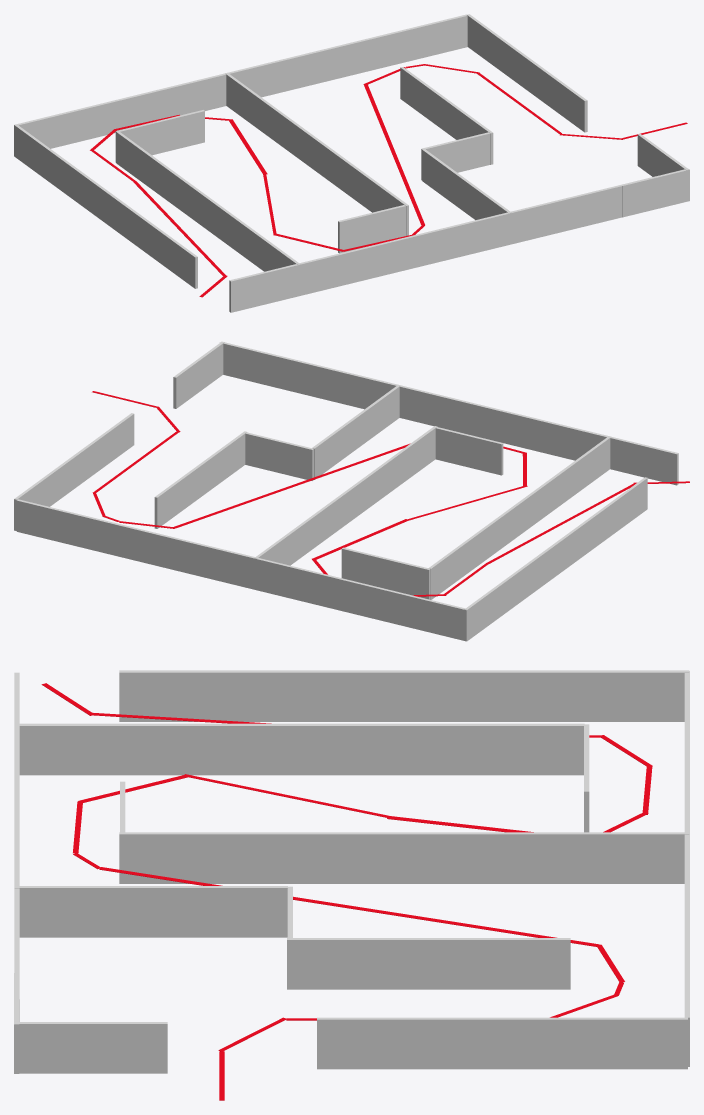
File: map3.dae
3 renders of one model, top to bottom at view 1: azimuth 30°, elevation 25°; view 2: azimuth 150°, elevation 25°; view 3: azimuth 270°, elevation 25°, orthographic. The views are drawn at different scales.
Visible parts, largest first — view 1: Cube.005, Cube.006, Cube.003, Cube.001, Cube.002, Cube.012, Cube.009, Cube.008, Cube.026, Cube.004, Cube.011, Cube.015 (+1 smaller); view 2: Cube.005, Cube.006, Cube.003, Cube.001, Cube.002, Cube.012, Cube.009, Cube.008, Cube.004, Cube.011, Cube.015, Cube.026 (+2 smaller); view 3: Cube.003, Cube.002, Cube.001, Cube.012, Cube.009, Cube.008, Cube.015, Cube.005, Cube.006, Cube.021, Cube.018.
Part boxes in pixels (x1=…): Cube.005: x1=17, y1=14, x2=467, y2=148; Cube.006: x1=229, y1=176, x2=656, y2=312; Cube.003: x1=115, y1=110, x2=300, y2=271; Cube.001: x1=14, y1=124, x2=197, y2=288; Cube.002: x1=225, y1=72, x2=408, y2=235; Cube.012: x1=467, y1=14, x2=587, y2=132; Cube.009: x1=400, y1=67, x2=493, y2=164; Cube.008: x1=422, y1=149, x2=511, y2=220; Cube.026: x1=622, y1=169, x2=689, y2=217; Cube.004: x1=338, y1=205, x2=405, y2=253; Cube.011: x1=421, y1=132, x2=490, y2=180; Cube.015: x1=637, y1=134, x2=688, y2=176; Cube.005: x1=16, y1=499, x2=466, y2=641; Cube.006: x1=252, y1=349, x2=678, y2=485; Cube.003: x1=341, y1=436, x2=611, y2=599; Cube.001: x1=464, y1=477, x2=647, y2=641; Cube.002: x1=254, y1=426, x2=437, y2=565; Cube.012: x1=14, y1=413, x2=134, y2=530; Cube.009: x1=154, y1=431, x2=246, y2=528; Cube.008: x1=312, y1=384, x2=400, y2=479; Cube.004: x1=435, y1=427, x2=503, y2=475; Cube.011: x1=245, y1=432, x2=313, y2=480; Cube.015: x1=173, y1=341, x2=224, y2=408; Cube.026: x1=220, y1=341, x2=253, y2=381; Cube.003: x1=14, y1=723, x2=589, y2=832; Cube.002: x1=119, y1=832, x2=689, y2=883; Cube.001: x1=119, y1=670, x2=689, y2=721; Cube.012: x1=317, y1=1017, x2=687, y2=1069; Cube.009: x1=287, y1=938, x2=570, y2=989; Cube.008: x1=14, y1=886, x2=287, y2=937; Cube.015: x1=14, y1=1022, x2=167, y2=1073; Cube.005: x1=684, y1=671, x2=689, y2=1066; Cube.006: x1=14, y1=672, x2=19, y2=1021; Cube.021: x1=99, y1=867, x2=599, y2=946; Cube.018: x1=184, y1=774, x2=388, y2=817.
Size of the model in its own units: 391 by 267 by 21.69.
